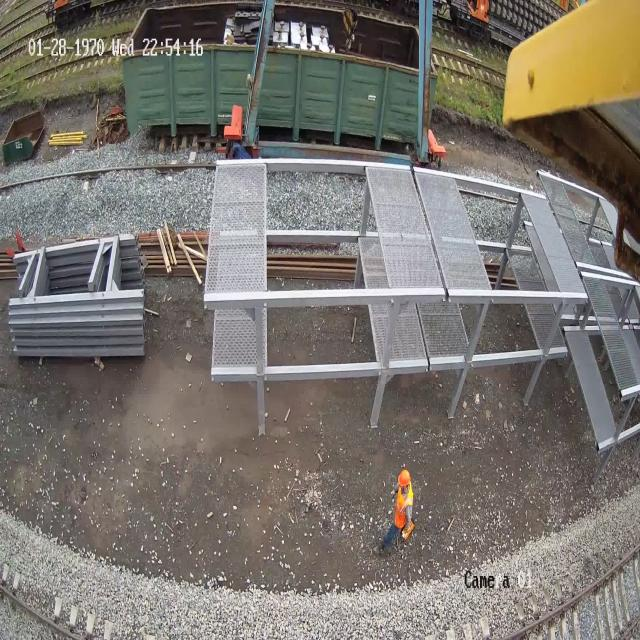Helmet: (398, 468, 410, 487)
Person: (381, 468, 414, 552)
